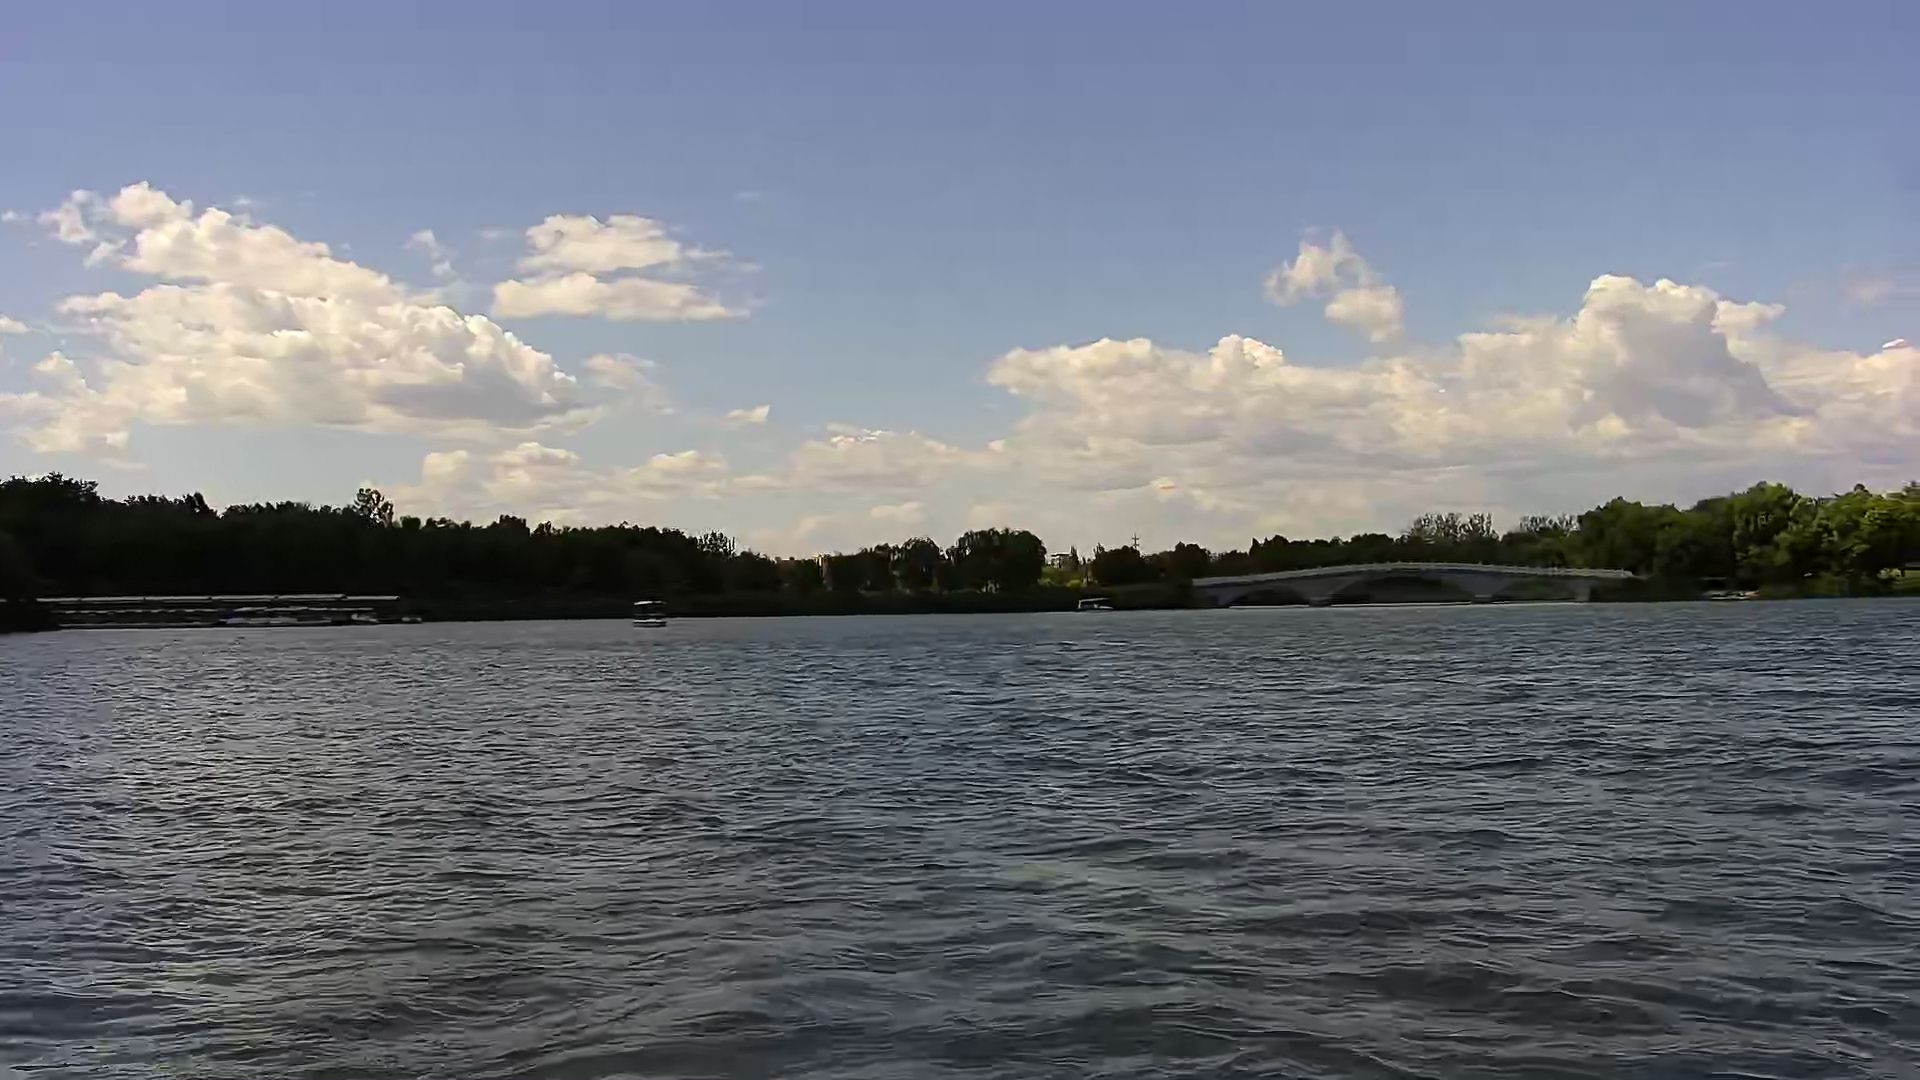boat: (626, 593, 676, 632)
bridge: (1192, 563, 1636, 611)
harbor: (41, 591, 423, 636)
